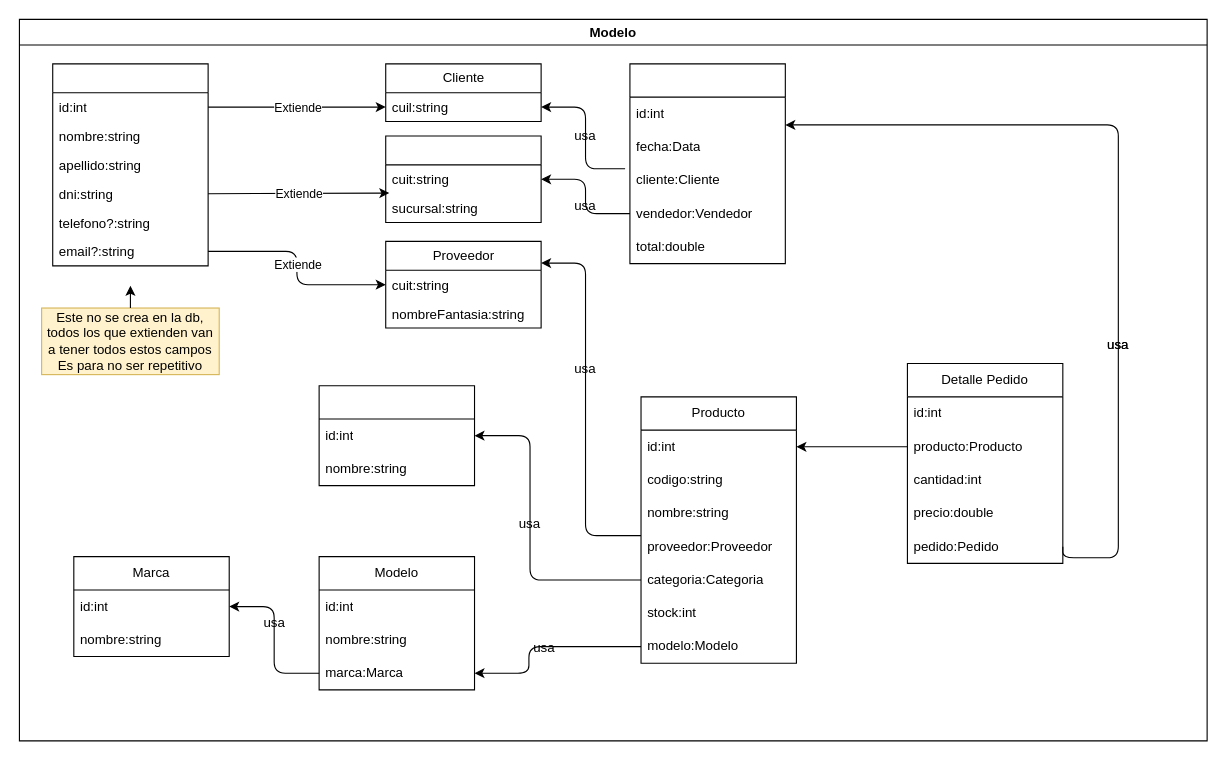
Some shapes in this 1227 by 760 pixel diagram are drawn without their labels. Each missing label, with the box of its shape:
Abstract Persona: (52, 63, 208, 266)
Categoria: (318, 385, 475, 486)
Pedido: (629, 63, 785, 264)
Vendedor: (385, 135, 541, 223)
